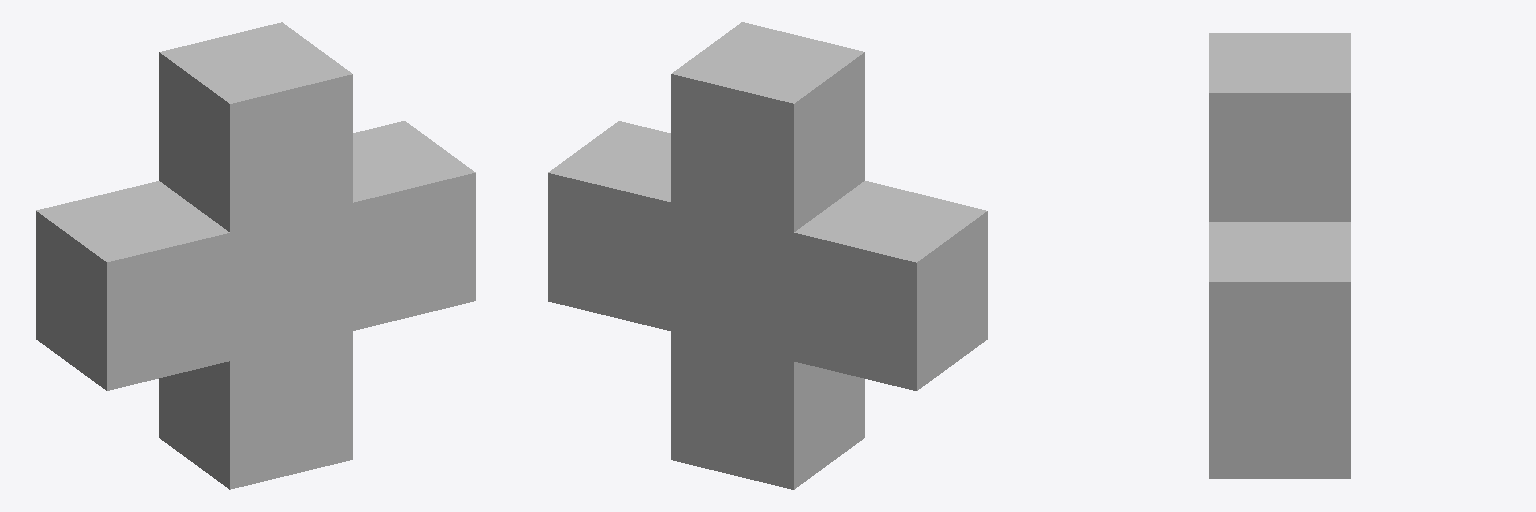
Rendered from cross.obj.
3 renders of one model, left to right at view 1: azimuth 30°, elevation 25°; view 2: azimuth 150°, elevation 25°; view 3: azimuth 270°, elevation 25°, orthographic.
Visible parts, largest first — view 1: Cube.004; view 2: Cube.004; view 3: Cube.004.
Part boxes in pixels (x1,y1,x2,y2): Cube.004: (36, 22, 475, 489); Cube.004: (548, 22, 987, 489); Cube.004: (1209, 33, 1350, 478).
Size of the model in its own units: 3 by 3 by 1.